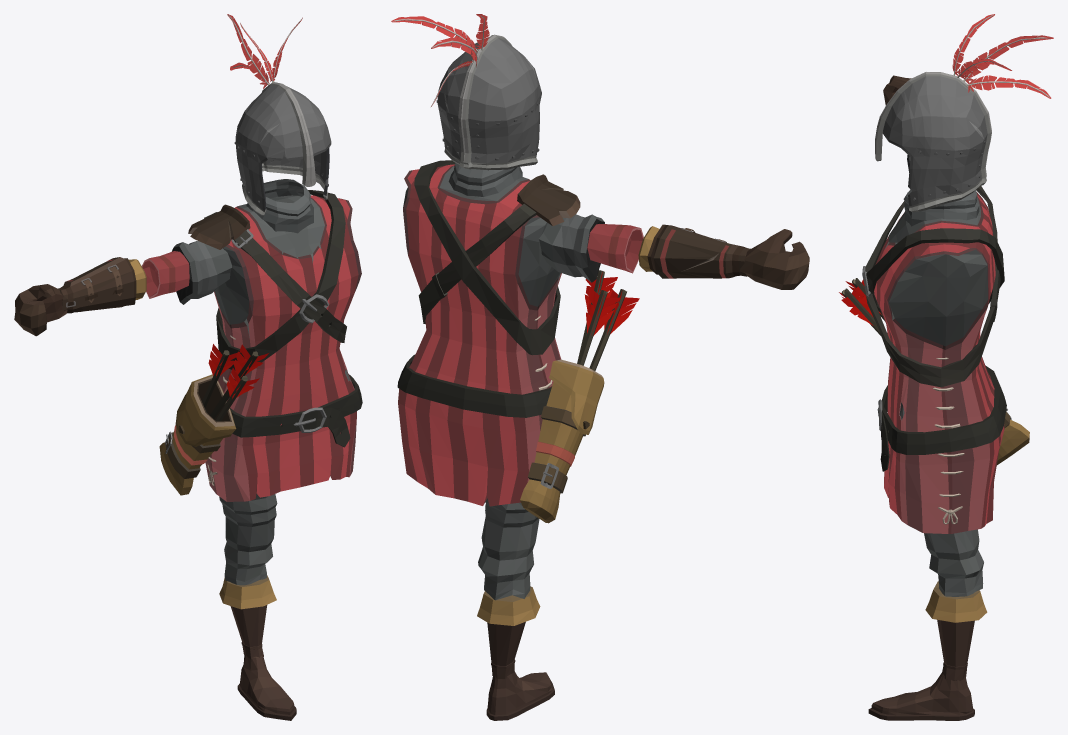
Rendered from stripedArmorFemale.glb.
3 views of the same model, side by side, from view 1: azimuth 30°, elevation 25°; view 2: azimuth 150°, elevation 25°; view 3: azimuth 270°, elevation 25° (orthographic). The views are drawn at different scales.
Visible parts, largest first — view 1: stripedArmor, stripedArmorHelm, yellowSideQuiver, stripedArmorUpperLeg, stripedArmorUpperArm, stripedArmorLowerArm, stripedArmorLowerLeg, stripedArmorFootLeg, crossBowKnighta, stripedArmorHandArm; view 2: stripedArmor, stripedArmorHelm, yellowSideQuiver, stripedArmorUpperArm, stripedArmorUpperLeg, stripedArmorLowerArm, stripedArmorLowerLeg, stripedArmorHandArm, stripedArmorFootLeg, crossBowKnighta; view 3: stripedArmor, stripedArmorHelm, stripedArmorLowerLeg, stripedArmorFootLeg, stripedArmorUpperLeg, yellowSideQuiver, crossBowKnighta, stripedArmorHandArm.
Part boxes in pixels (x1,y1,x2,y2): stripedArmor: (188,190,362,501); stripedArmorHelm: (227,14,331,215); yellowSideQuiver: (159,344,268,495); stripedArmorUpperLeg: (219,494,277,585); stripedArmorUpperArm: (141,241,231,304); stripedArmorLowerArm: (58,257,146,313); stripedArmorLowerLeg: (219,575,276,659); stripedArmorFootLeg: (237,654,296,720); crossBowKnighta: (246,179,313,233); stripedArmorHandArm: (14,284,67,336); stripedArmor: (397,160,580,506); stripedArmorHelm: (391,14,541,170); yellowSideQuiver: (520,270,639,523); stripedArmorUpperArm: (538,214,643,282); stripedArmorUpperLeg: (478,498,539,600); stripedArmorLowerArm: (638,224,750,278); stripedArmorLowerLeg: (477,586,540,679); stripedArmorHandArm: (740,229,809,289); stripedArmorFootLeg: (486,671,554,720); crossBowKnighta: (448,162,522,196); stripedArmor: (862,186,1006,533); stripedArmorHelm: (875,14,1053,212); stripedArmorLowerLeg: (925,581,987,680); stripedArmorFootLeg: (868,673,974,720); stripedArmorUpperLeg: (924,529,983,596); yellowSideQuiver: (839,278,1029,465); crossBowKnighta: (903,189,979,226); stripedArmorHandArm: (883,75,911,105).
Size of the model in its own units: 1.17 by 2.11 by 0.586.
